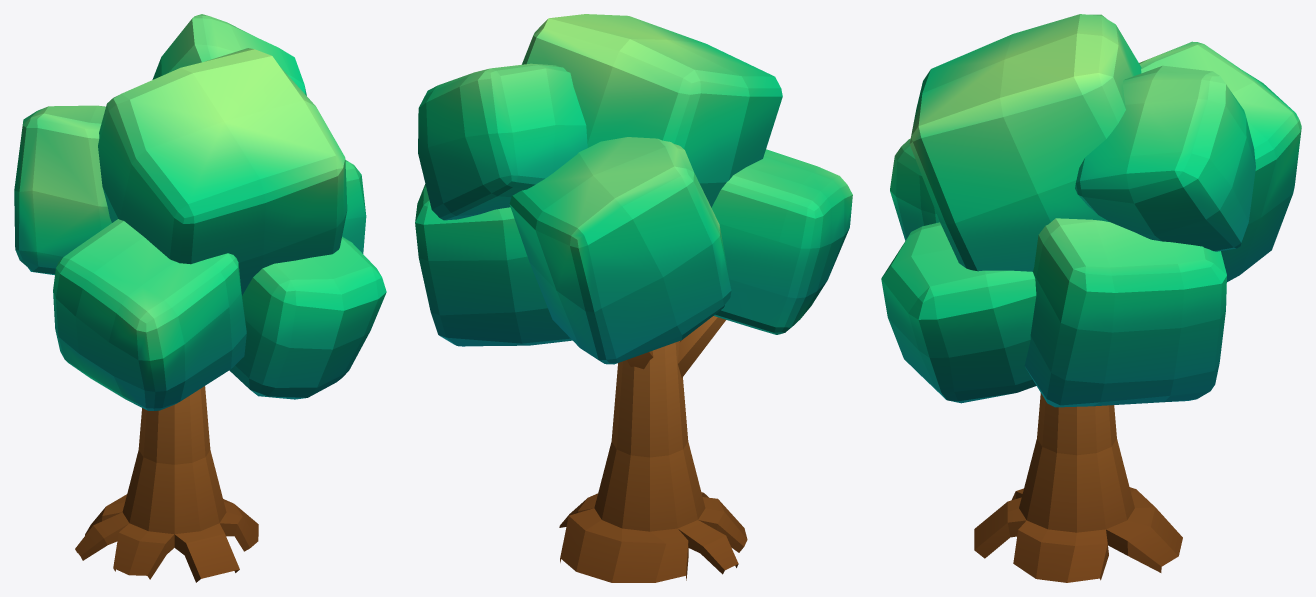
Rendered from Tree_Cube_Spring.fbx.
The picture shows the model from 3 angles, left to right: view 1: azimuth 30°, elevation 25°; view 2: azimuth 150°, elevation 25°; view 3: azimuth 270°, elevation 25°; orthographic projection. The views are drawn at different scales.
Visible parts, largest first — view 1: Tree_Cube_Spring; view 2: Tree_Cube_Spring; view 3: Tree_Cube_Spring.
Boxes of the visible parts, x1,y1,x2,y2 form: Tree_Cube_Spring: (14, 14, 386, 582); Tree_Cube_Spring: (415, 14, 852, 582); Tree_Cube_Spring: (881, 14, 1301, 582).
Bounding box in the file's own units: 270 × 367 × 267.
